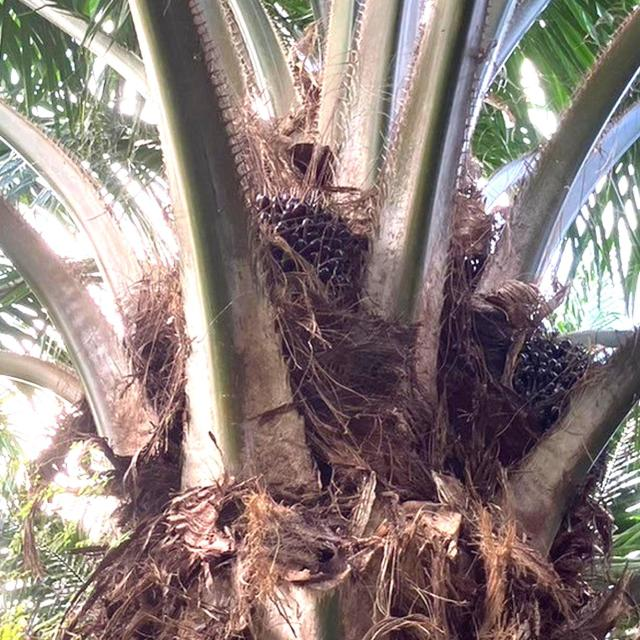ripe: (251, 191, 367, 332)
